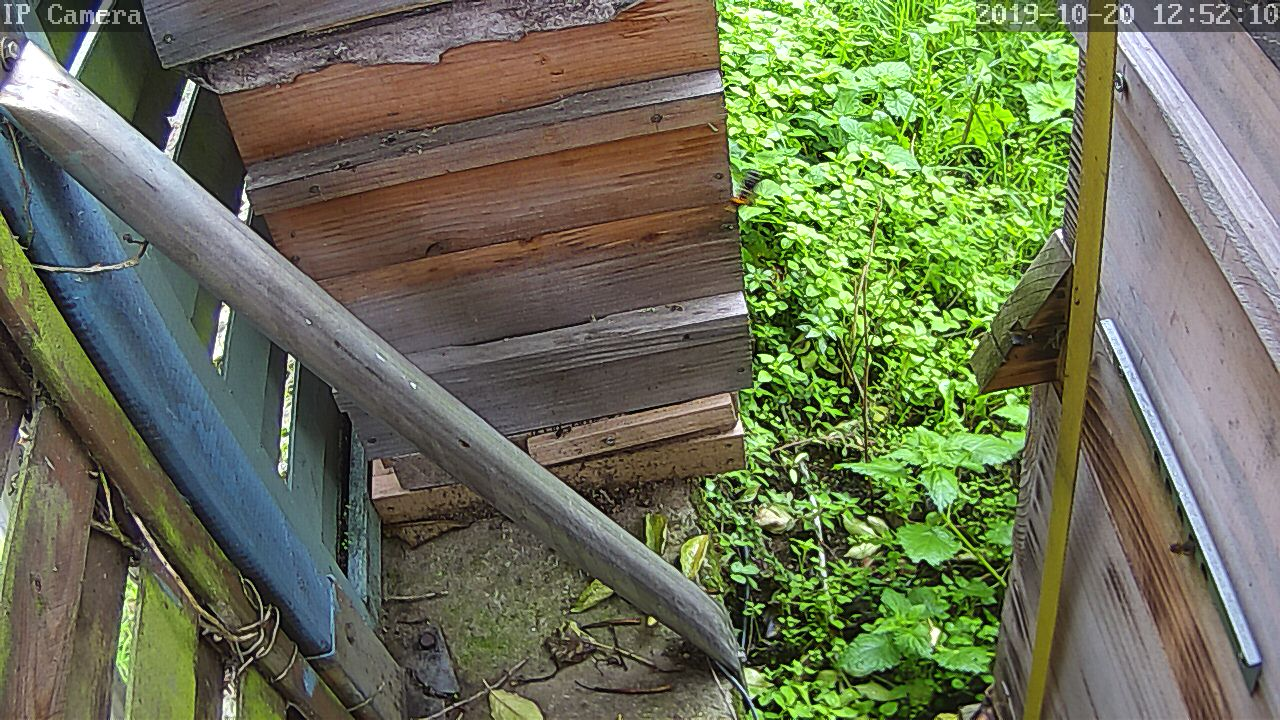bee: (1165, 523, 1211, 566)
hornet: (714, 170, 755, 218)
